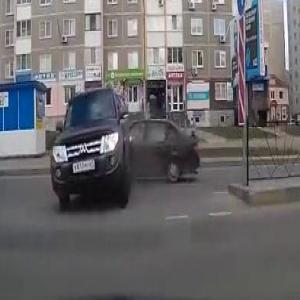negligible: (48, 83, 199, 217)
